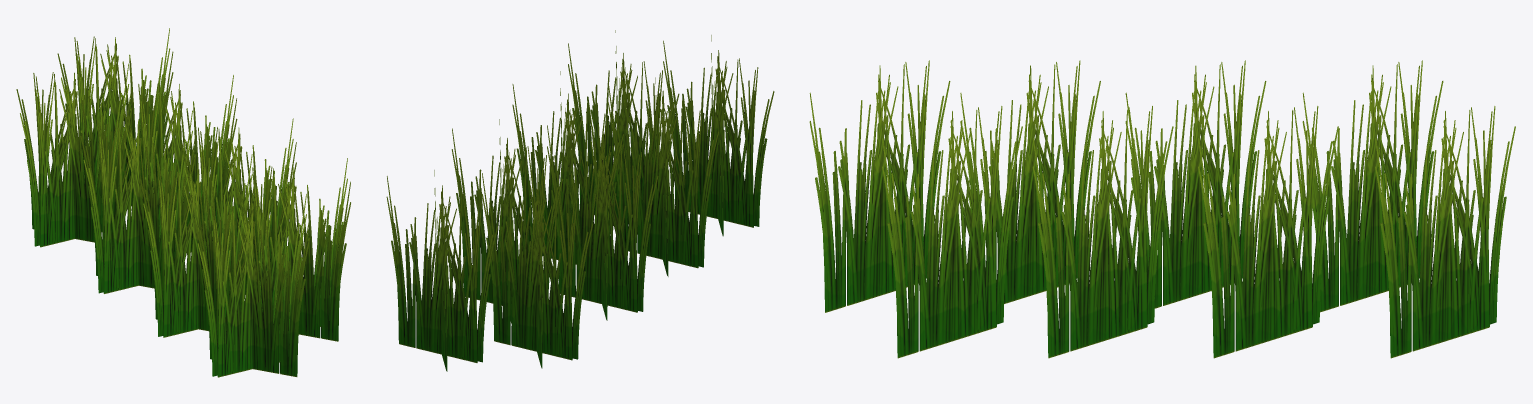
Rendered from WEED1.FBX.
3 views of the same model, side by side, from view 1: azimuth 30°, elevation 25°; view 2: azimuth 150°, elevation 25°; view 3: azimuth 270°, elevation 25° (orthographic). The views are drawn at different scales.
Parts seen in each view (by area): view 1: Plane003; view 2: Plane003; view 3: Plane003.
Part boxes in pixels (<box>): Plane003: <box>16,28,350,377</box>; Plane003: <box>386,30,774,371</box>; Plane003: <box>809,60,1515,358</box>.
Bounding box in the file's own units: 1.58 × 1.51 × 3.88.
